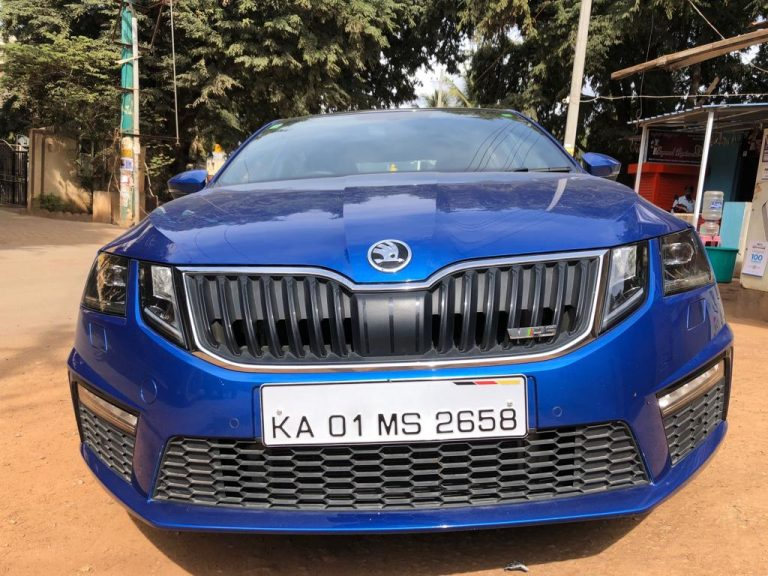number_plate: (258, 380, 534, 451)
